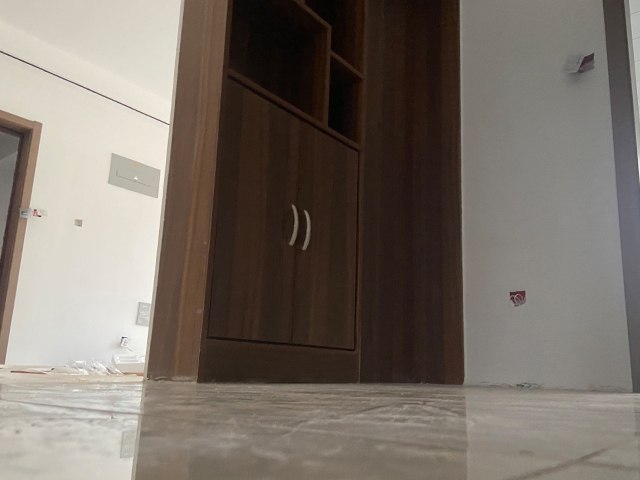cabinet: (152, 75, 370, 385)
